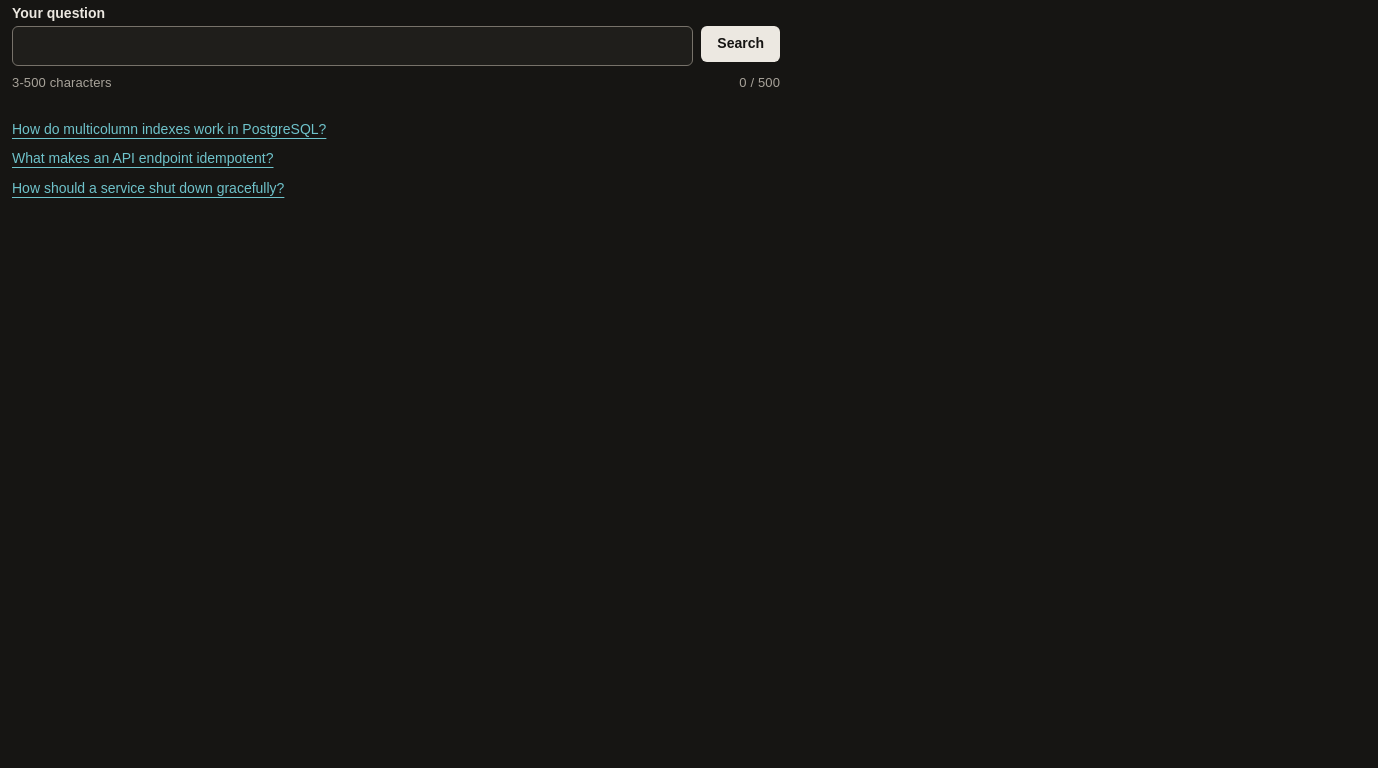
Test: results › insufficient, and zero hits, show the gap panel (closest passages only when there are hits)
Type "liveness probes" into the search field labelled "Your question" at (353, 46), box [12, 26, 693, 66]
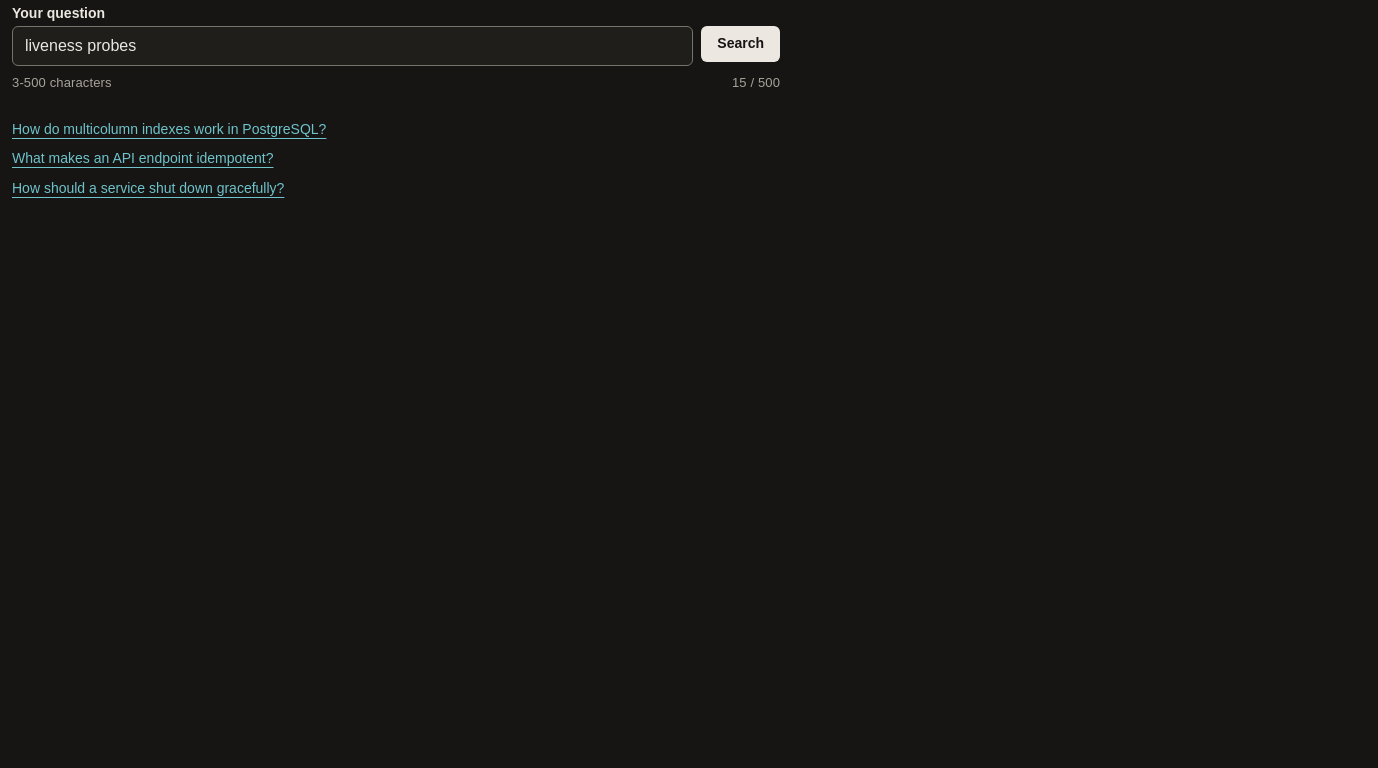
Click the button "Search" at (741, 44), box [701, 26, 780, 62]
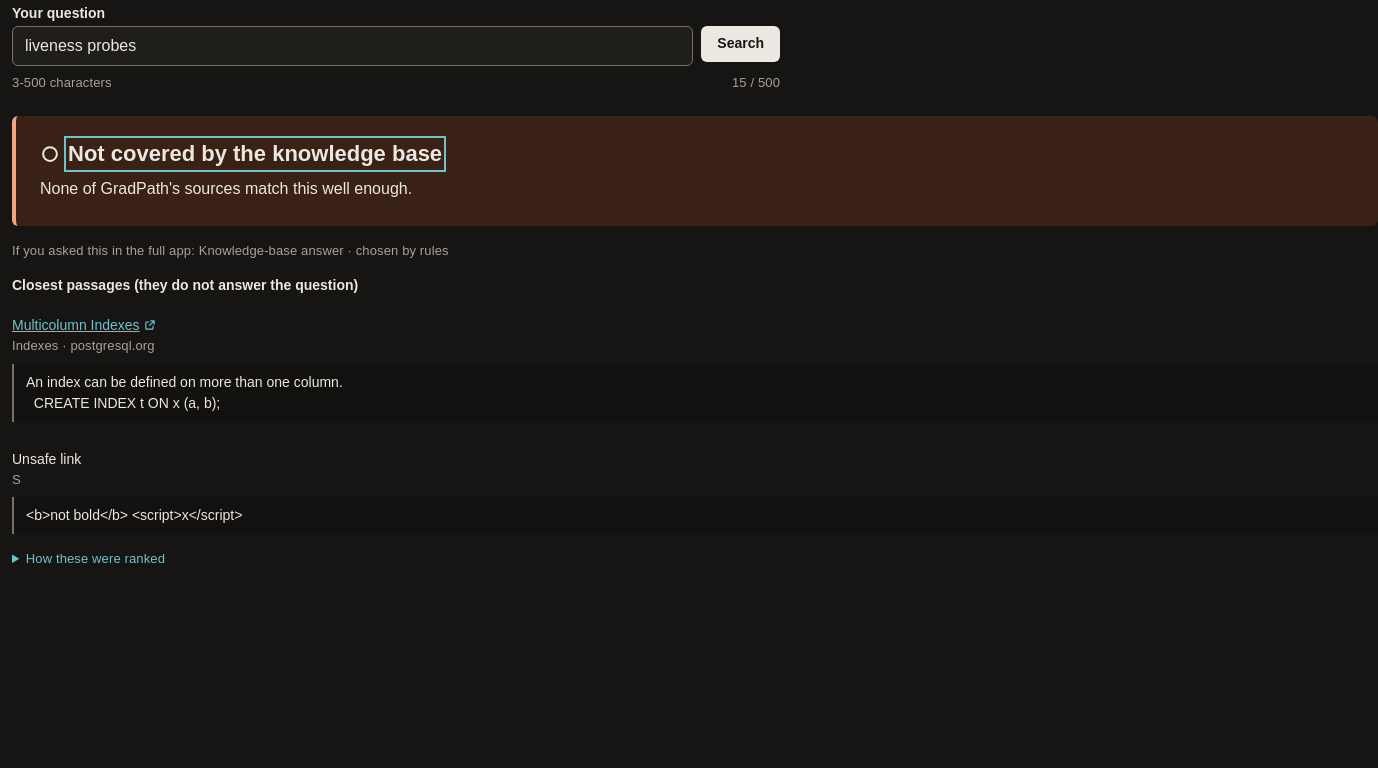
Now the heading "Not covered by the knowledge base" is shown, box [68, 140, 442, 168]
Now the text "None of GradPath's sources match this well enough." is shown, box [40, 180, 412, 197]
Now the text "Closest passages (they do not answer the question)" is shown, box [12, 277, 358, 293]
Replace the text in the search field labelled "Your question" with "liveness probes again" at (353, 46), box [12, 26, 693, 66]
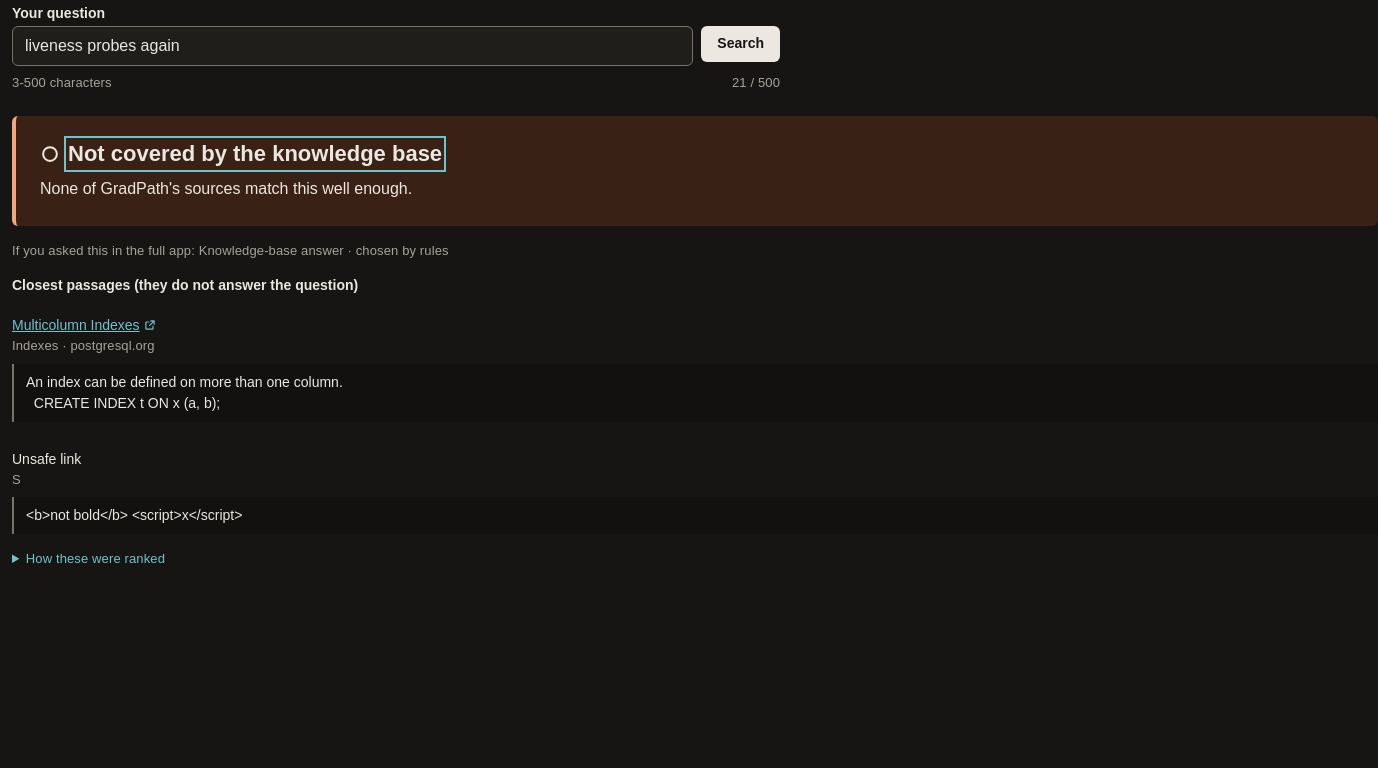
Click the button "Search" at (741, 44), box [701, 26, 780, 62]
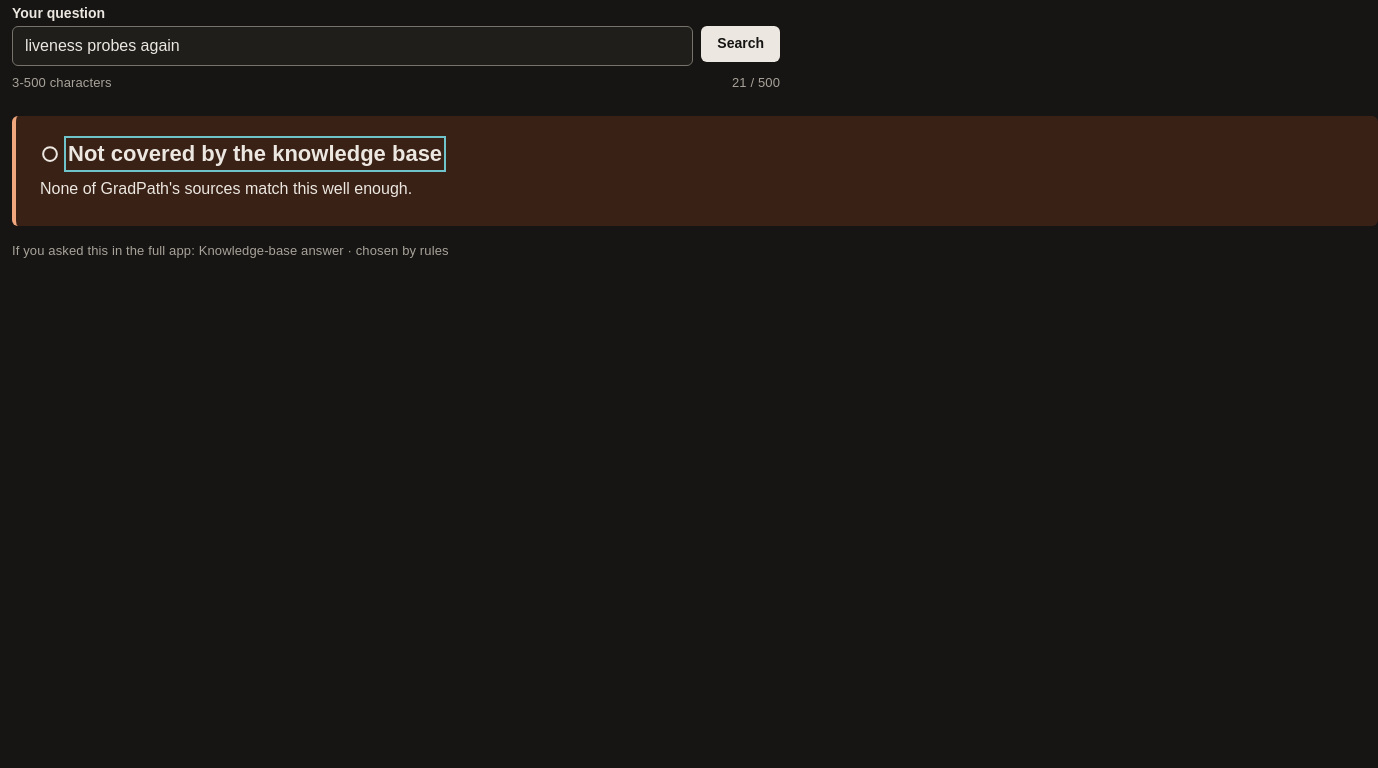
Now the heading "Not covered by the knowledge base" is shown, box [68, 140, 442, 168]
Now the text "Closest passages" is gone
